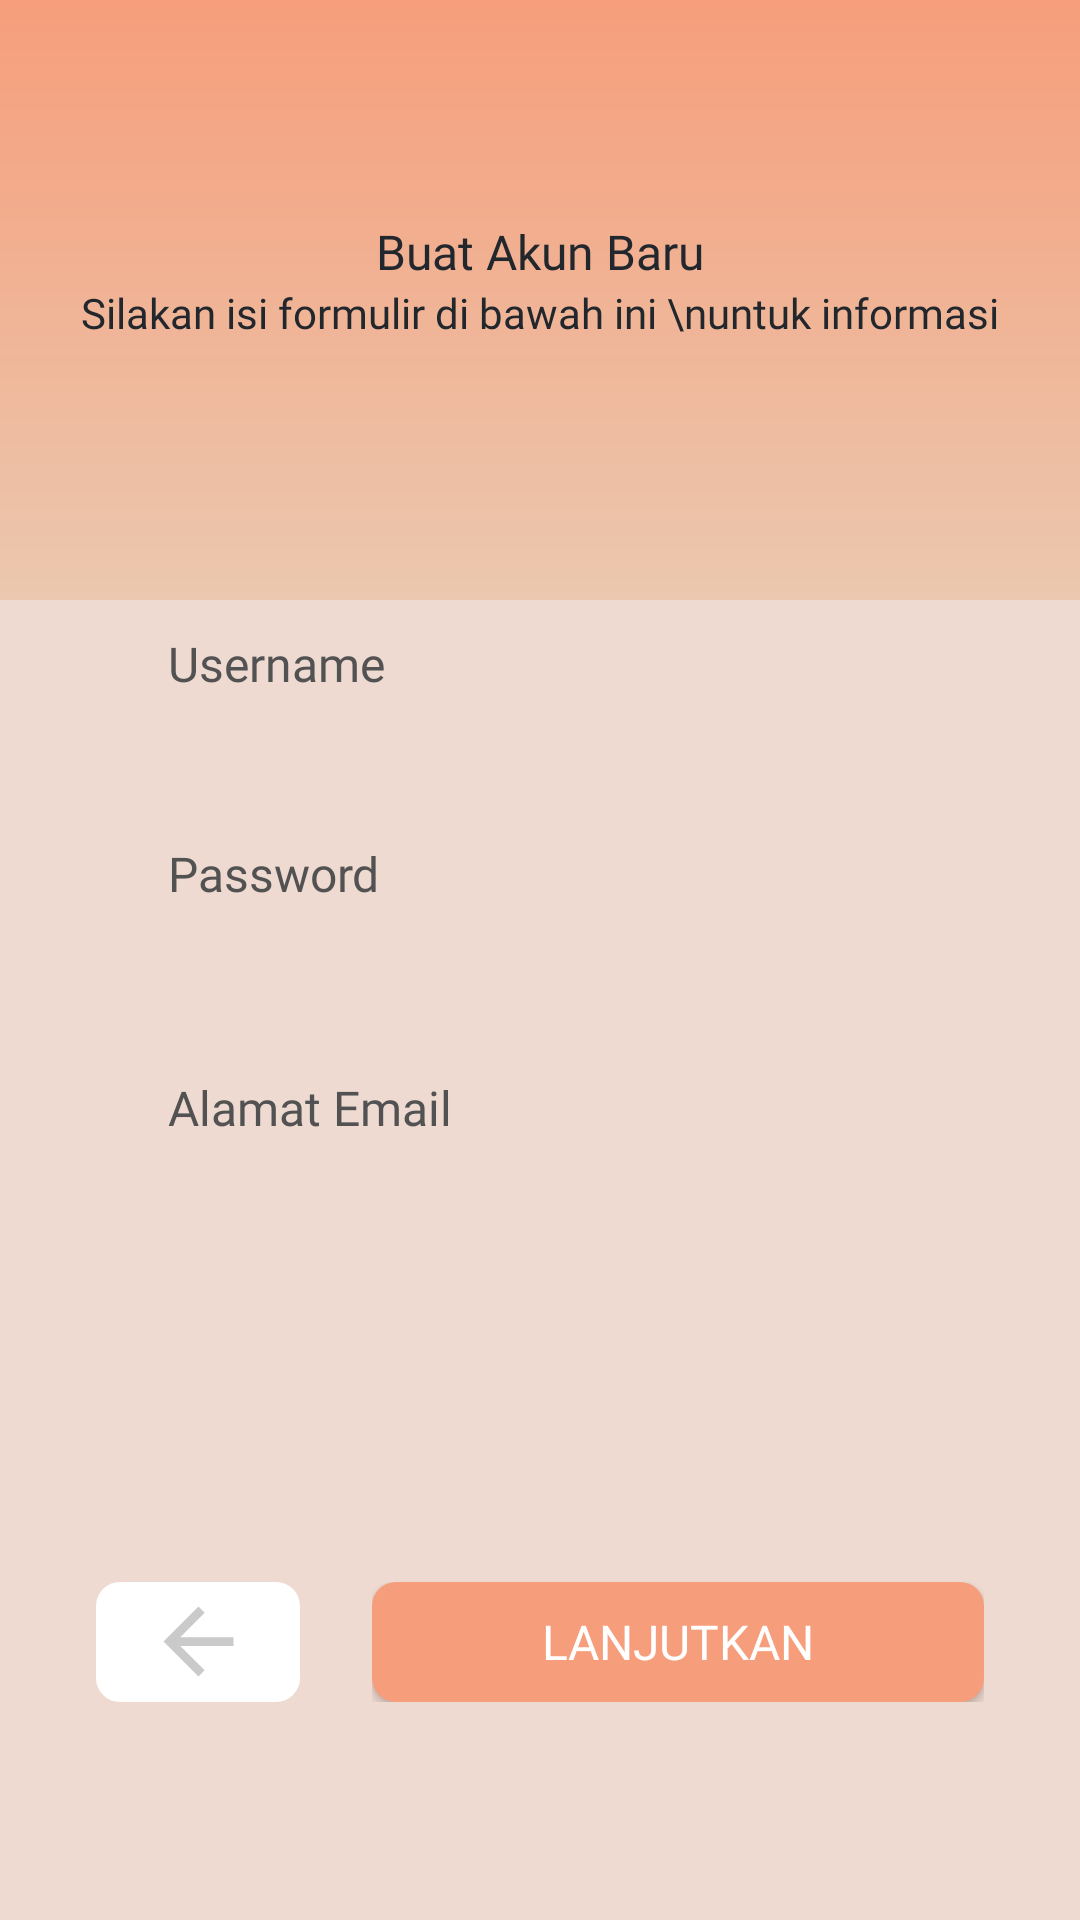

Named icons in this screenshot (1080*1920) and their centers, (x=x, y=y):
back: (x=199, y=1641)
